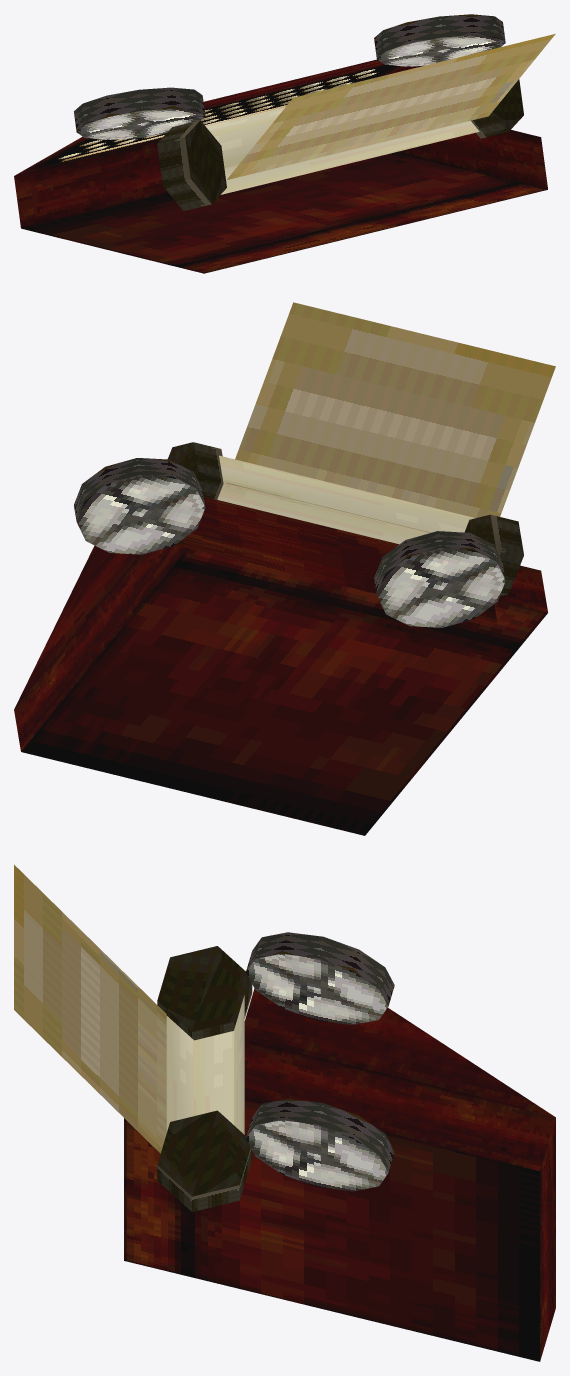
Rendered from ps2_save-icons_residentevilcodeveronica.glb.
3 renders of one model, top to bottom at view 1: azimuth 30°, elevation 25°; view 2: azimuth 150°, elevation 25°; view 3: azimuth 270°, elevation 25°, orthographic. The views are drawn at different scales.
Visible parts, largest first — view 1: bio_cv.ico; view 2: bio_cv.ico; view 3: bio_cv.ico.
Boxes of the visible parts, <box> form: bio_cv.ico: <box>14,14,555,273</box>; bio_cv.ico: <box>14,302,555,835</box>; bio_cv.ico: <box>14,865,555,1361</box>.
Size of the model in its own units: 3.96 by 2.66 by 3.96.
Materials: 1 (1 with a texture image).
